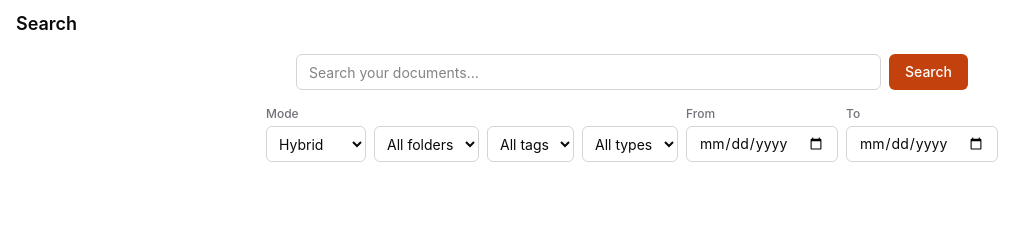
Scenario: shows the empty state when nothing matches
Type "niente" into the field with placeholder "Search your documents…" at (588, 72), box [296,54,881,90]
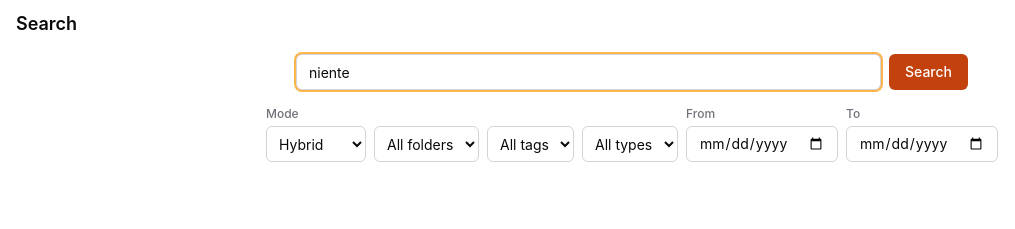
Click the button "Search" at (928, 72), box [889,54,968,90]
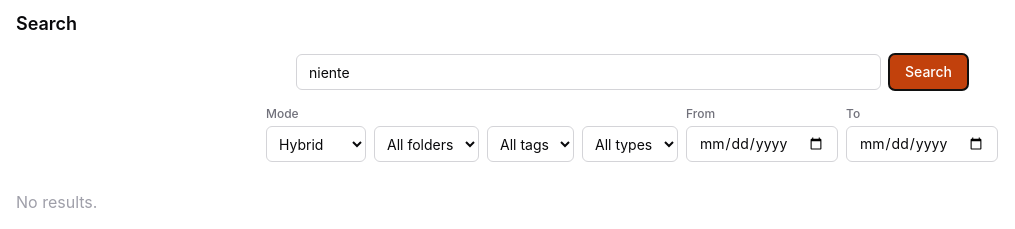
Result: the text "No results." is shown at [16,192,97,212]
